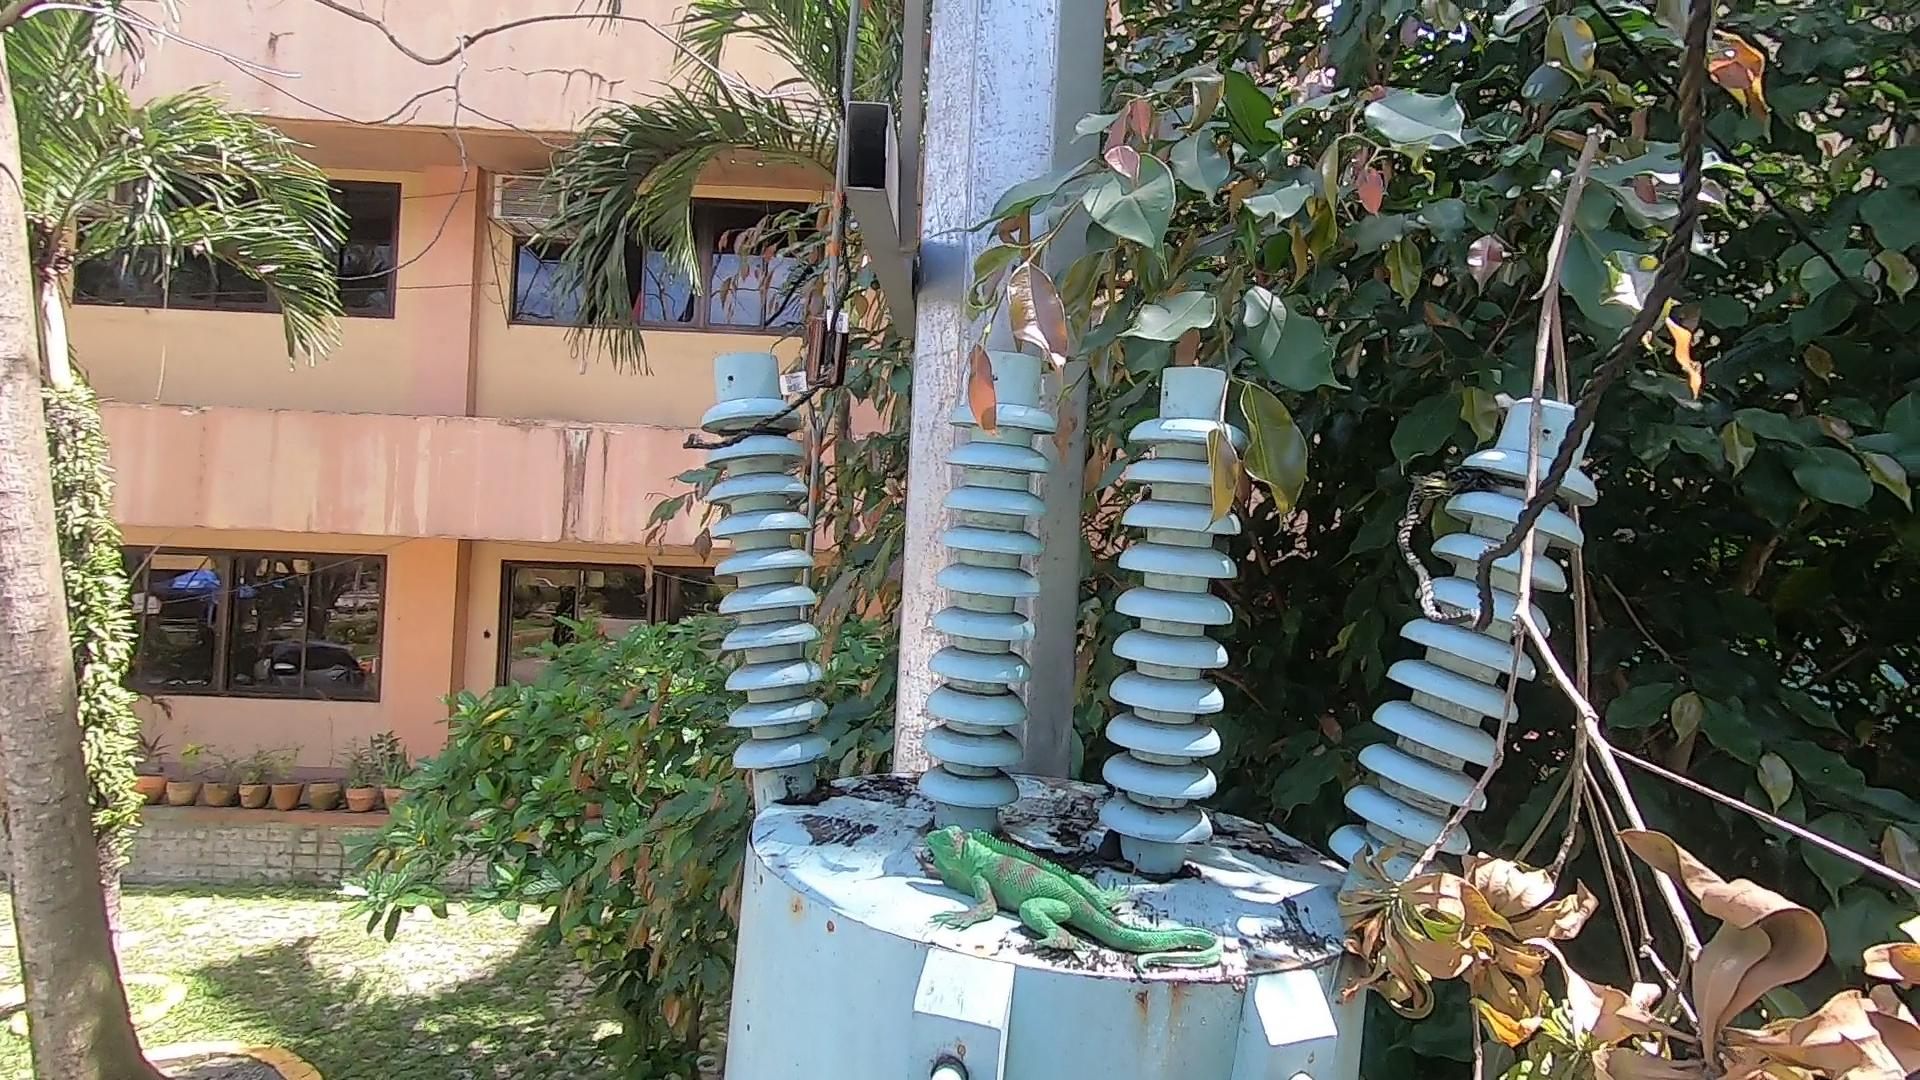branch with leaves: (1381, 80, 1909, 1080)
leaf: (1083, 828, 1127, 869)
tree branch: (1029, 811, 1100, 827)
